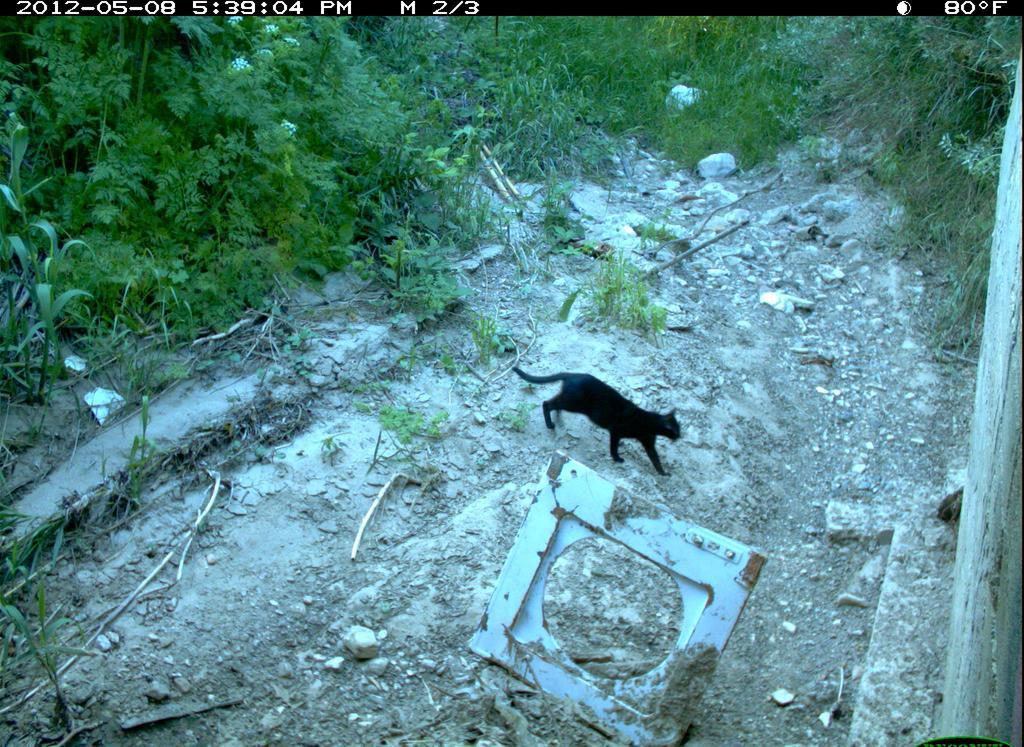cat: (506, 361, 692, 481)
